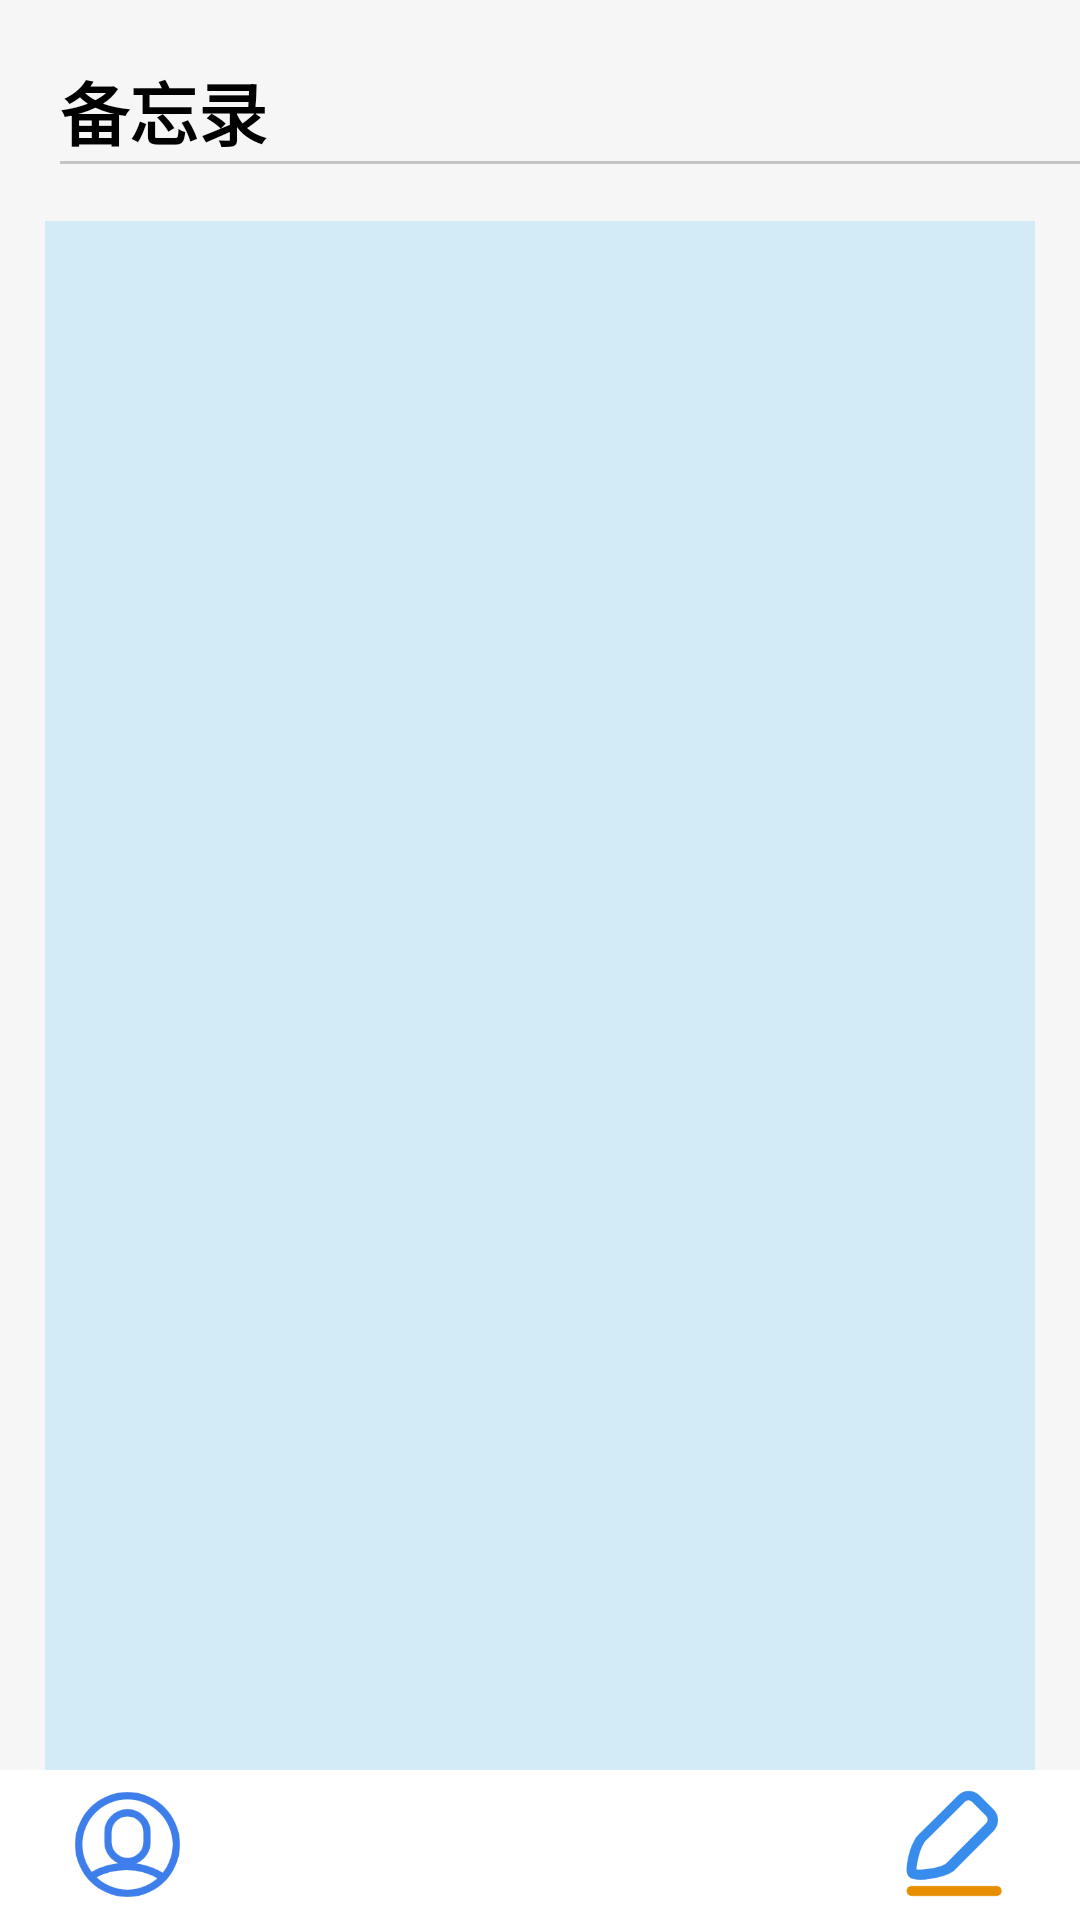

Point at icon controls on the screen. Image size 1080*1920, points as [x,y].
write: [954,1843]
